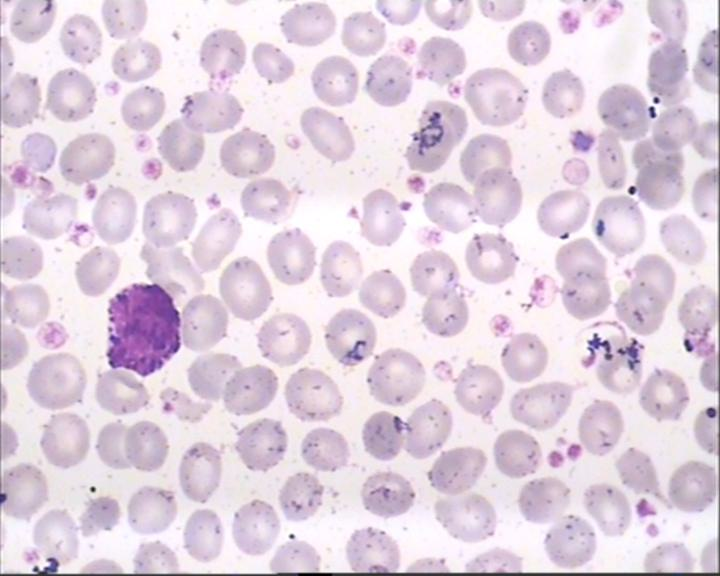baso: (100, 275, 185, 374)
